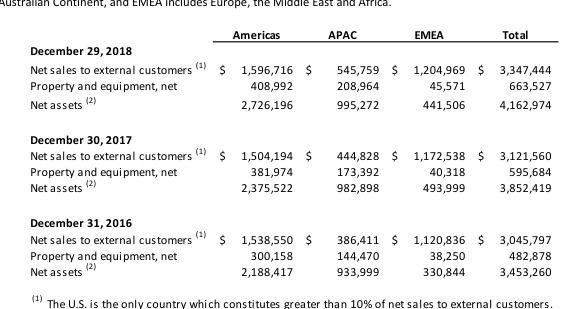table: (29, 28, 550, 277)
table column: (29, 28, 211, 277), (211, 28, 298, 277), (298, 28, 384, 277), (384, 28, 470, 277), (470, 28, 550, 277)
table column header: (29, 28, 550, 42)
table projected row header: (29, 122, 550, 146), (29, 205, 550, 229), (29, 42, 550, 58)
table row: (29, 93, 550, 122), (29, 178, 550, 205), (29, 122, 550, 146), (29, 205, 550, 229), (29, 58, 550, 77), (29, 146, 550, 164), (29, 229, 550, 247), (29, 42, 550, 58), (29, 77, 550, 93), (29, 261, 550, 277), (29, 28, 550, 42), (29, 164, 550, 178), (29, 247, 550, 261)
